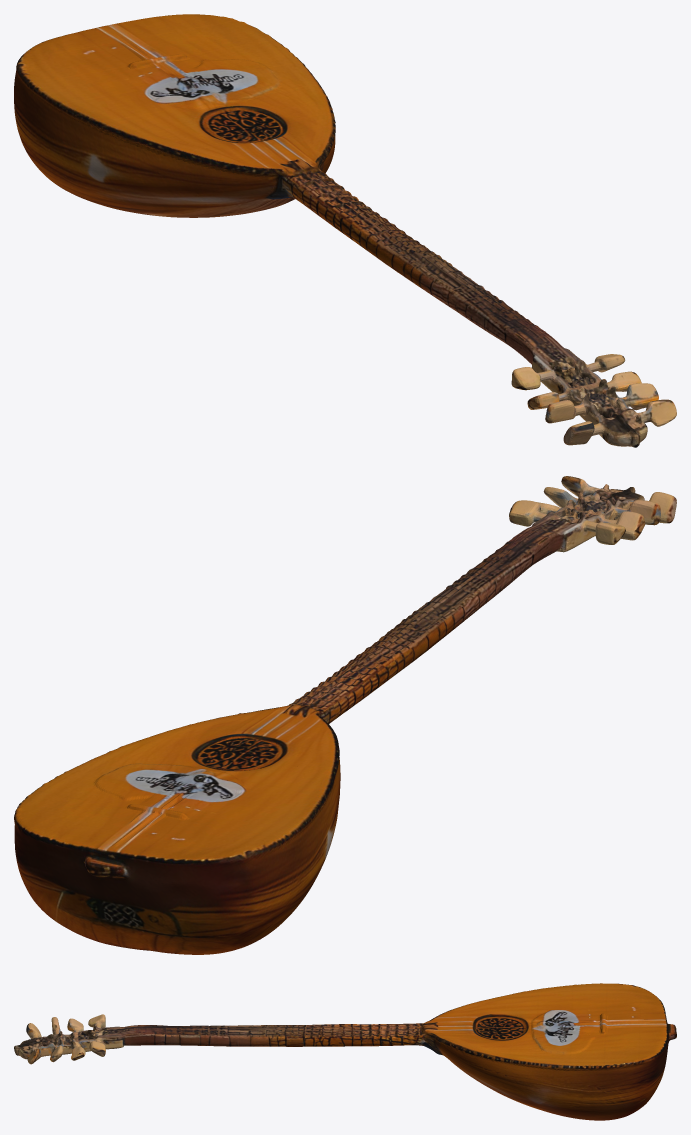
The picture shows the model from 3 angles, top to bottom: view 1: azimuth 30°, elevation 25°; view 2: azimuth 150°, elevation 25°; view 3: azimuth 270°, elevation 25°; orthographic projection. The views are drawn at different scales.
Parts seen in each view (by area): view 1: tripo_node_a181202a-92e1-4513-941c-a50ab1b290df; view 2: tripo_node_a181202a-92e1-4513-941c-a50ab1b290df; view 3: tripo_node_a181202a-92e1-4513-941c-a50ab1b290df.
Boxes of the visible parts, x1,y1,x2,y2 form: tripo_node_a181202a-92e1-4513-941c-a50ab1b290df: (14, 14, 676, 447); tripo_node_a181202a-92e1-4513-941c-a50ab1b290df: (14, 476, 676, 954); tripo_node_a181202a-92e1-4513-941c-a50ab1b290df: (14, 983, 676, 1120).
Bounding box in the file's own units: 0.2875 × 0.143 × 1.05.
Materials: 1 (1 with a texture image).
